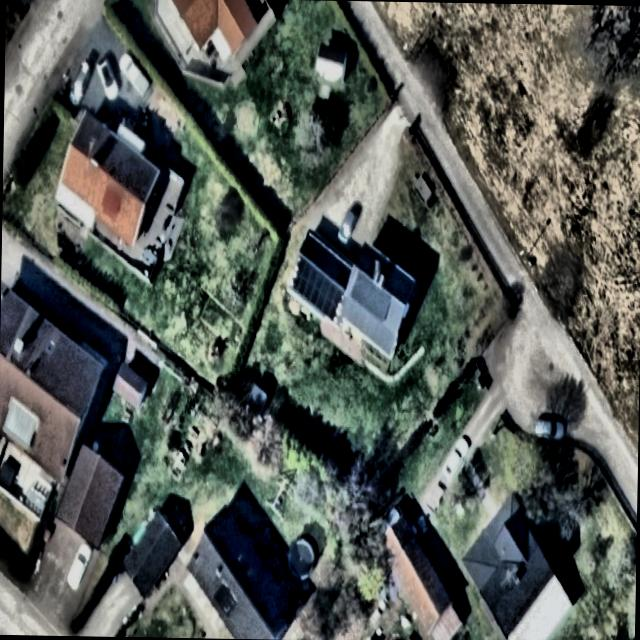roof_pv: (290, 258, 343, 318)
